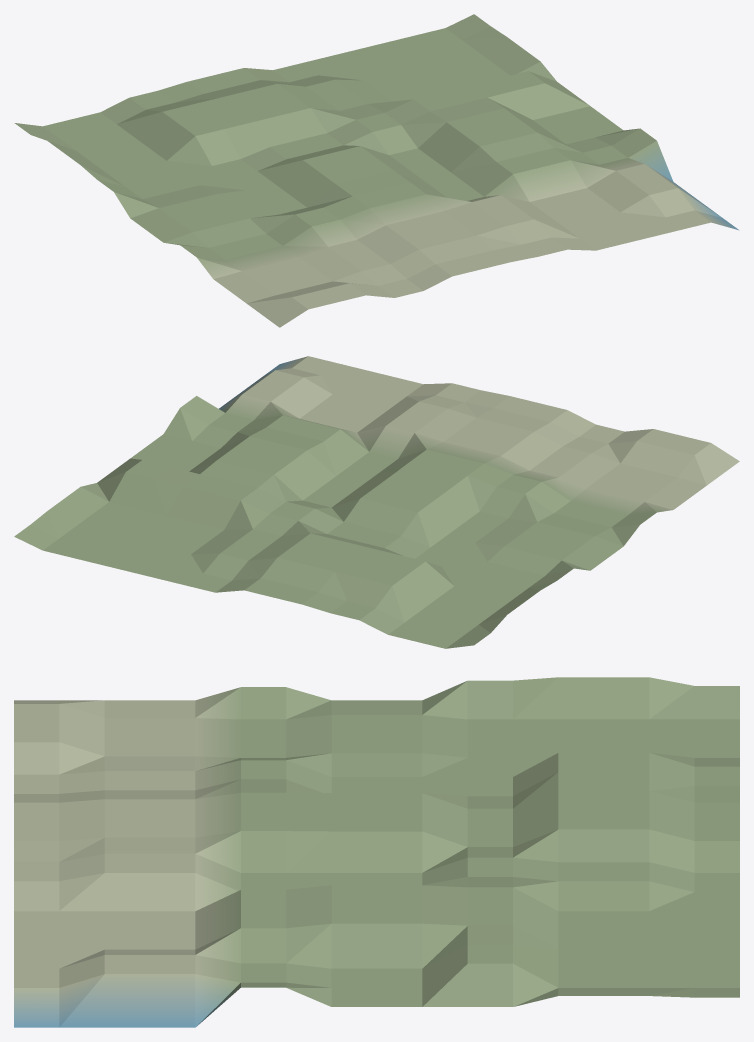
3 renders of one model, top to bottom at view 1: azimuth 30°, elevation 25°; view 2: azimuth 150°, elevation 25°; view 3: azimuth 270°, elevation 25°, orthographic. The views are drawn at different scales.
Size of the model in its own units: 32 by 2.26 by 32.
